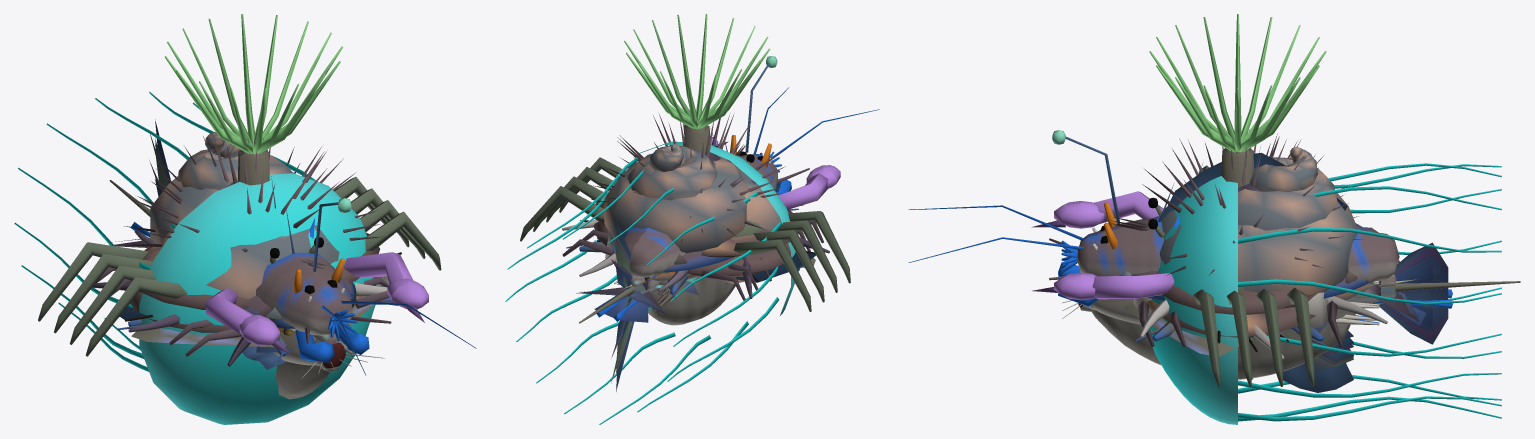
Rendered from creatures_caverns.glb.
3 views of the same model, side by side, from view 1: azimuth 30°, elevation 25°; view 2: azimuth 150°, elevation 25°; view 3: azimuth 270°, elevation 25° (orthographic). The views are drawn at different scales.
Visible parts, largest first — view 1: halo_comb_jelly, calcite_decorator_crab, lichen_lick_snail, drip_tubeworm, lumen_sea_cucumber, stalactite_urchin, lure_lantern_angler, blind_lamp_isopod, cavern_echo_clam, echo_ray, strobe_mantis_shrimp, grotto_mimic_octopus (+2 smaller); view 2: lichen_lick_snail, calcite_decorator_crab, halo_comb_jelly, drip_tubeworm, lure_lantern_angler, lumen_sea_cucumber, cavern_echo_clam, blind_lamp_isopod, stalactite_urchin, carrion_lamp_amphipod, grotto_mimic_octopus, cathedral_gulper (+5 smaller); view 3: halo_comb_jelly, lichen_lick_snail, calcite_decorator_crab, drip_tubeworm, lure_lantern_angler, lumen_sea_cucumber, cavern_echo_clam, stalactite_urchin, echo_ray, blind_lamp_isopod, chandelier_sponge, carrion_lamp_amphipod (+8 smaller).
Part boxes in pixels (x1,y1,x2,y2): halo_comb_jelly: (14,92,375,424); calcite_decorator_crab: (38,177,441,356); lichen_lick_snail: (150,132,344,301); drip_tubeworm: (165,14,342,185); lumen_sea_cucumber: (256,252,357,340); stalactite_urchin: (124,135,384,268); lure_lantern_angler: (155,119,351,399); blind_lamp_isopod: (96,242,391,356); cavern_echo_clam: (130,232,379,332); echo_ray: (109,180,389,347); strobe_mantis_shrimp: (295,323,369,362); grotto_mimic_octopus: (92,181,387,366); lichen_lick_snail: (604,143,781,283); calcite_decorator_crab: (520,137,850,311); halo_comb_jelly: (505,141,795,424); drip_tubeworm: (624,14,770,154); lure_lantern_angler: (616,56,777,391); lumen_sea_cucumber: (616,151,781,277); cavern_echo_clam: (593,192,798,276); blind_lamp_isopod: (562,168,823,300); stalactite_urchin: (593,108,785,243); carrion_lamp_amphipod: (594,87,879,322); grotto_mimic_octopus: (562,152,829,298); cathedral_gulper: (581,282,698,312); halo_comb_jelly: (1150,163,1501,424); lichen_lick_snail: (1092,146,1357,308); calcite_decorator_crab: (1031,165,1314,386); drip_tubeworm: (1149,14,1326,187); lure_lantern_angler: (1052,130,1355,392); lumen_sea_cucumber: (1061,216,1399,286); cavern_echo_clam: (1146,271,1315,337); stalactite_urchin: (1111,130,1362,275); echo_ray: (1122,279,1520,356); blind_lamp_isopod: (1049,238,1368,346); chandelier_sponge: (1320,242,1448,362); carrion_lamp_amphipod: (908,205,1426,325).
Bounding box in the file's own units: 1.29 × 1.27 × 1.95.
